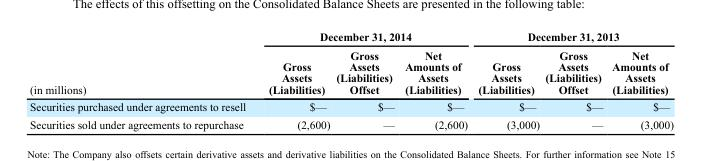table: (29, 29, 672, 130)
table column: (29, 29, 256, 130), (256, 29, 332, 130), (399, 29, 472, 130), (472, 29, 541, 130), (332, 29, 399, 130), (606, 29, 672, 130), (541, 29, 606, 130)
table column header: (29, 29, 672, 97)
table row: (29, 45, 672, 97), (29, 97, 672, 115), (29, 29, 672, 45), (29, 115, 672, 130)
table spanning cell: (29, 29, 256, 97), (256, 29, 472, 45), (472, 29, 672, 45)
